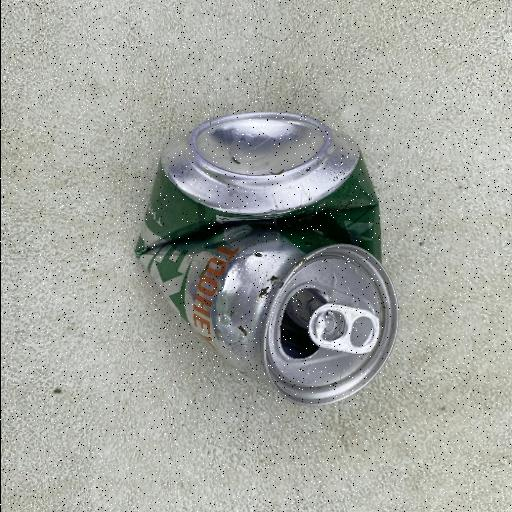Metal: (134, 108, 400, 408)
